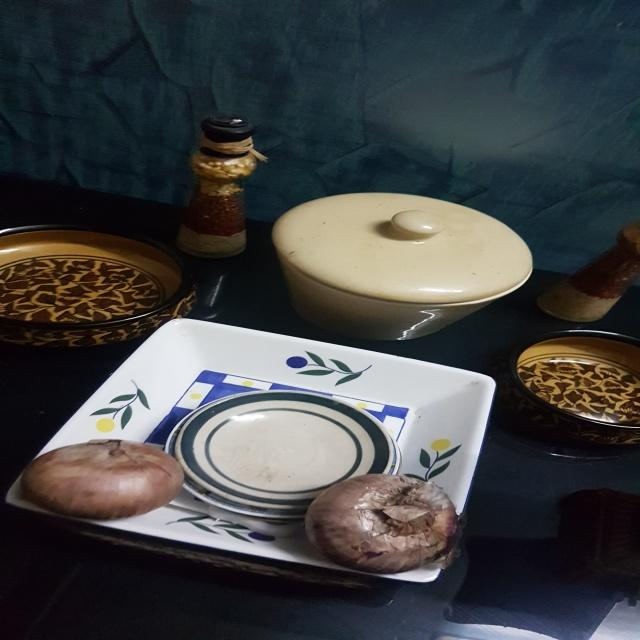onion: (307, 462, 466, 589), (22, 432, 195, 514)
